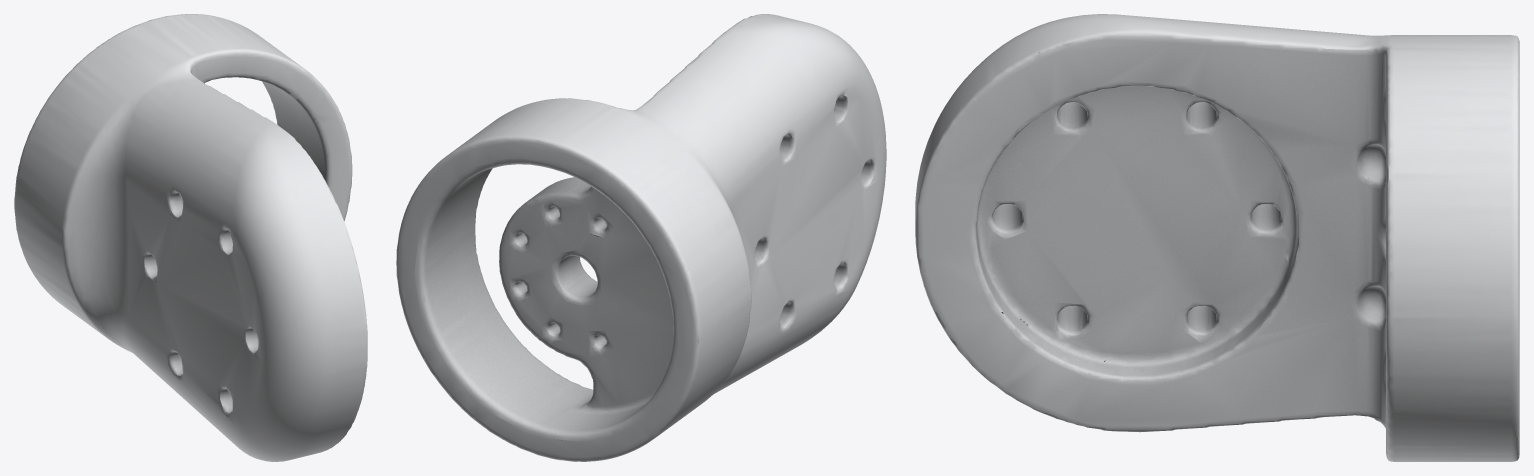
The model's file is right_S_to_Bisecp.obj.
3 renders of one model, left to right at view 1: azimuth 30°, elevation 25°; view 2: azimuth 150°, elevation 25°; view 3: azimuth 270°, elevation 25°, orthographic. The views are drawn at different scales.
Parts seen in each view (by area): view 1: right_S_to_Bisecp; view 2: right_S_to_Bisecp; view 3: right_S_to_Bisecp.
Boxes of the visible parts, <box> form: right_S_to_Bisecp: <box>14,14,367,461</box>; right_S_to_Bisecp: <box>396,14,886,461</box>; right_S_to_Bisecp: <box>915,14,1519,461</box>.
Bounding box in the file's own units: 0.0644 × 0.0669 × 0.0912.
1 material, 1 textured.
